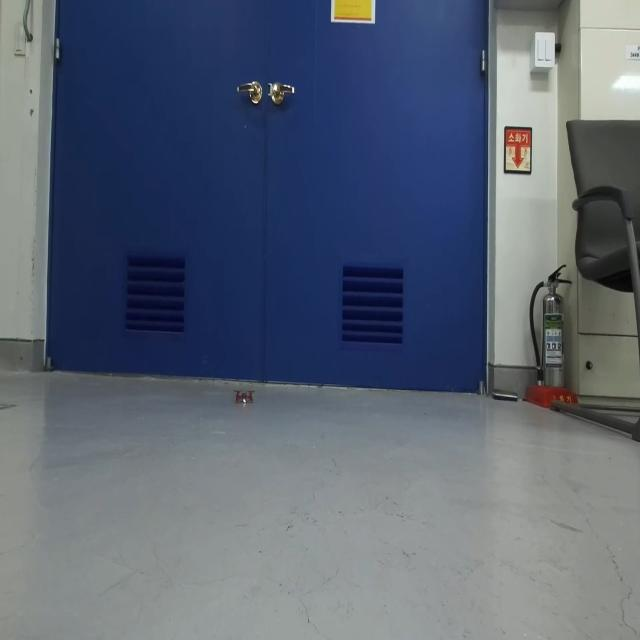crazyflie: (234, 383, 256, 411)
